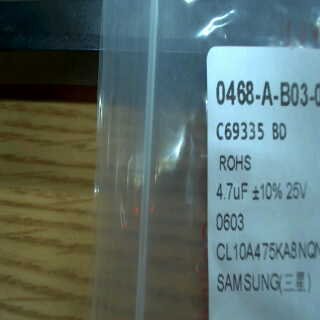4.7uF: (215, 179, 250, 204)
